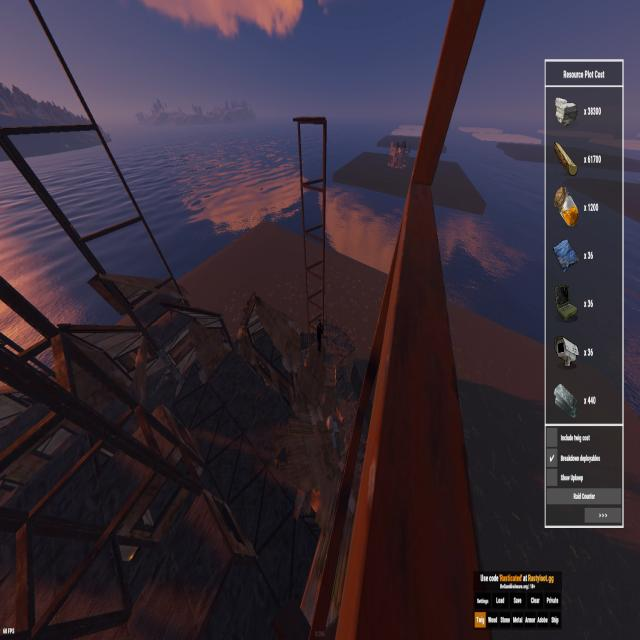Player: (315, 319, 324, 354)
